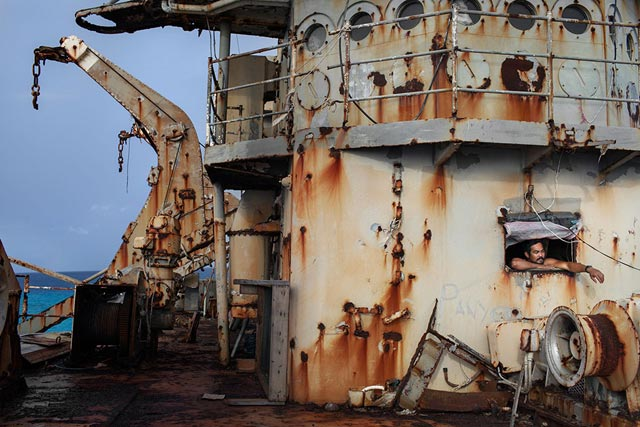rust: (154, 129, 199, 267), (338, 293, 408, 354), (291, 148, 343, 221), (290, 338, 327, 401), (499, 57, 548, 93), (364, 68, 427, 93)
